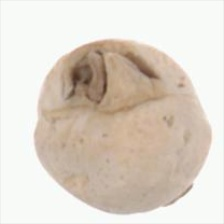L3: (67, 48, 169, 112)
L4: (32, 38, 214, 215)
